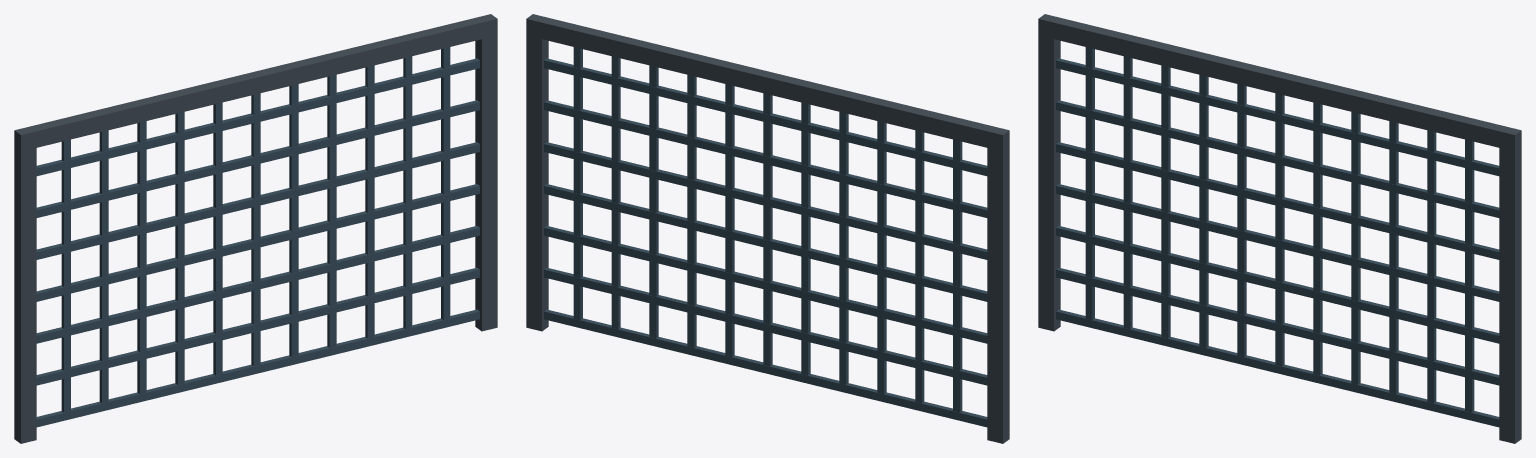
Rendered from Fence_1_H_3.fbx.
3 renders of one model, left to right at view 1: azimuth 30°, elevation 25°; view 2: azimuth 150°, elevation 25°; view 3: azimuth 330°, elevation 25°, orthographic.
Visible parts, largest first — view 1: Fence_1_H_3; view 2: Fence_1_H_3; view 3: Fence_1_H_3.
Boxes of the visible parts, x1,y1,x2,y2 form: Fence_1_H_3: (14,14,497,443); Fence_1_H_3: (526,14,1009,443); Fence_1_H_3: (1038,14,1521,443).
Bounding box in the file's own units: 400 × 248 × 9.6.
